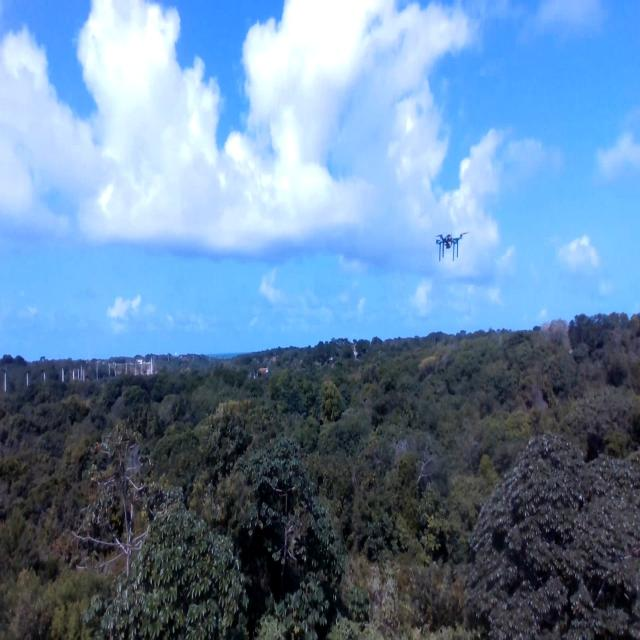-uav-: (427, 221, 475, 274)
